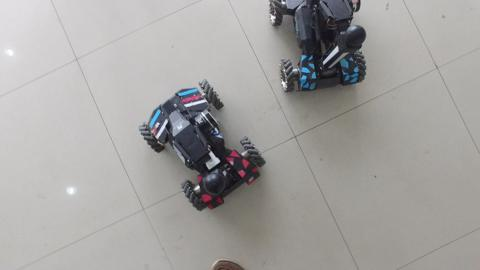chariot: (139, 76, 269, 220), (264, 1, 370, 101)
